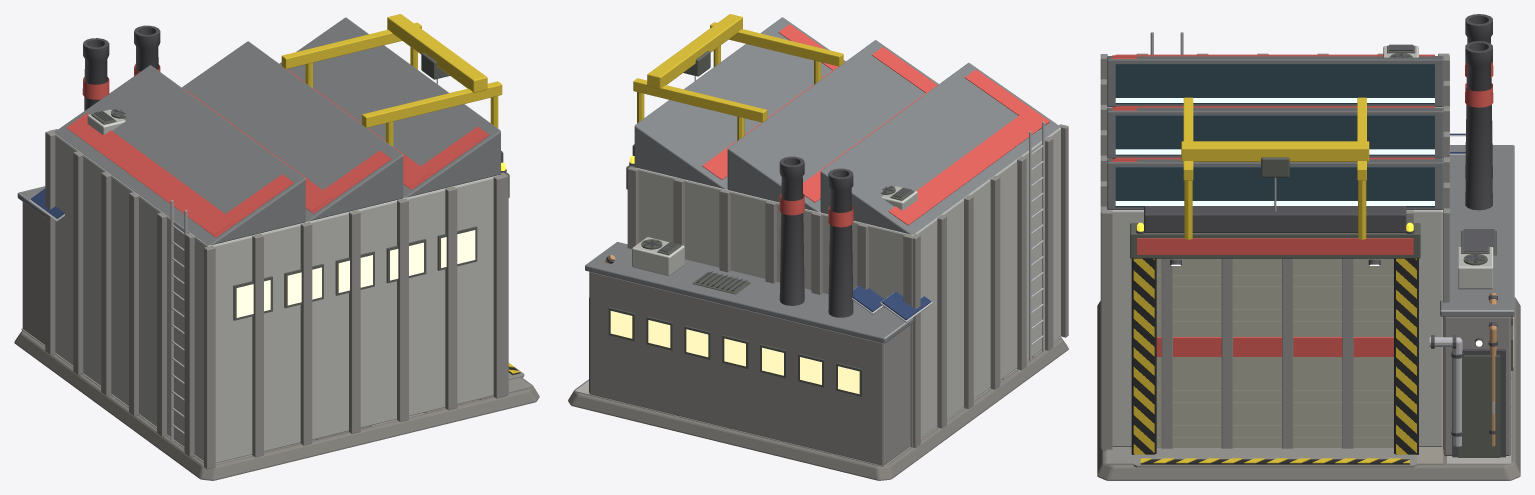
The model's file is factory_red.glb.
The picture shows the model from 3 angles, left to right: view 1: azimuth 30°, elevation 25°; view 2: azimuth 150°, elevation 25°; view 3: azimuth 270°, elevation 25°; orthographic projection. The views are drawn at different scales.
Visible parts, largest first — view 1: Body; view 2: Body; view 3: Body.
Boxes of the visible parts, box(x1,y1,x2,y2) form: Body: box(14, 14, 539, 480); Body: box(568, 14, 1068, 480); Body: box(1097, 14, 1520, 480).
Size of the model in its own units: 5.99 by 5.04 by 5.98.
1 material, 1 textured.
